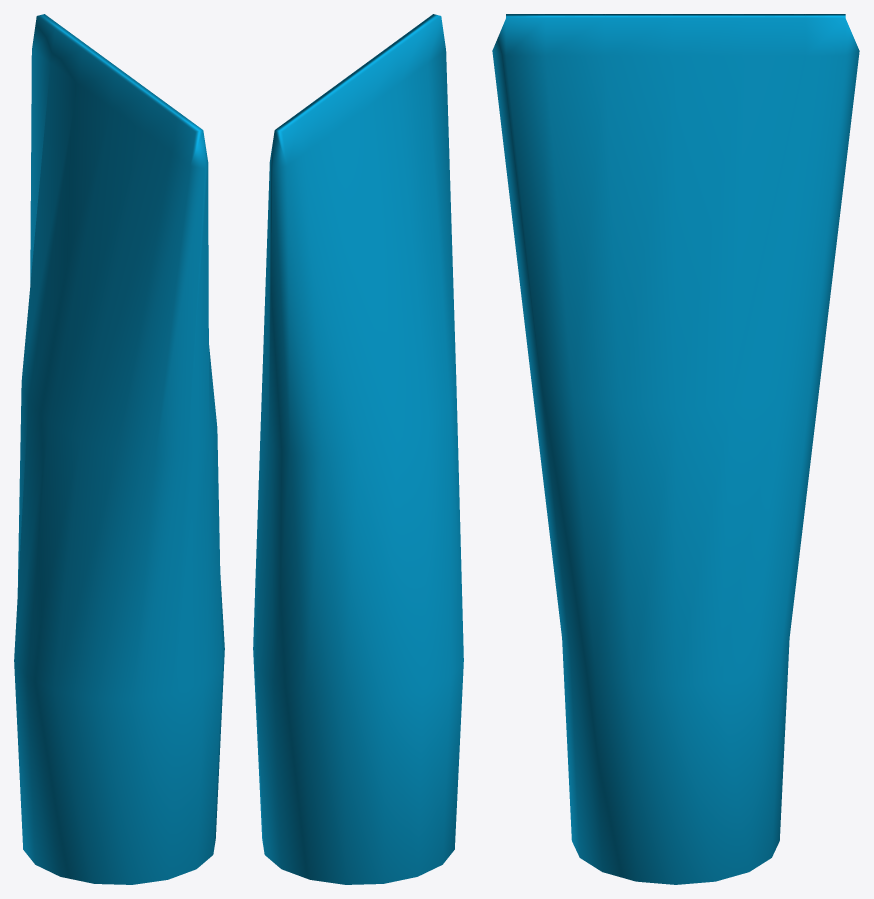
Rendered from Flacon_01_Lod0.fbx.
The picture shows the model from 3 angles, left to right: view 1: azimuth 30°, elevation 25°; view 2: azimuth 150°, elevation 25°; view 3: azimuth 270°, elevation 25°; orthographic projection. The views are drawn at different scales.
Parts seen in each view (by area): view 1: Flacon_01_Lod0; view 2: Flacon_01_Lod0; view 3: Flacon_01_Lod0.
Part boxes in pixels (x1,y1,x2,y2): Flacon_01_Lod0: (14, 14, 224, 884); Flacon_01_Lod0: (253, 14, 463, 884); Flacon_01_Lod0: (492, 14, 859, 884).
Bounding box in the file's own units: 5 × 20.02 × 8.08.
